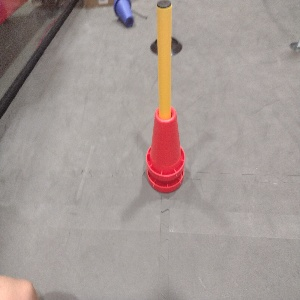Blue_1: (113, 0, 135, 26)
Red_2: (146, 106, 185, 193)
